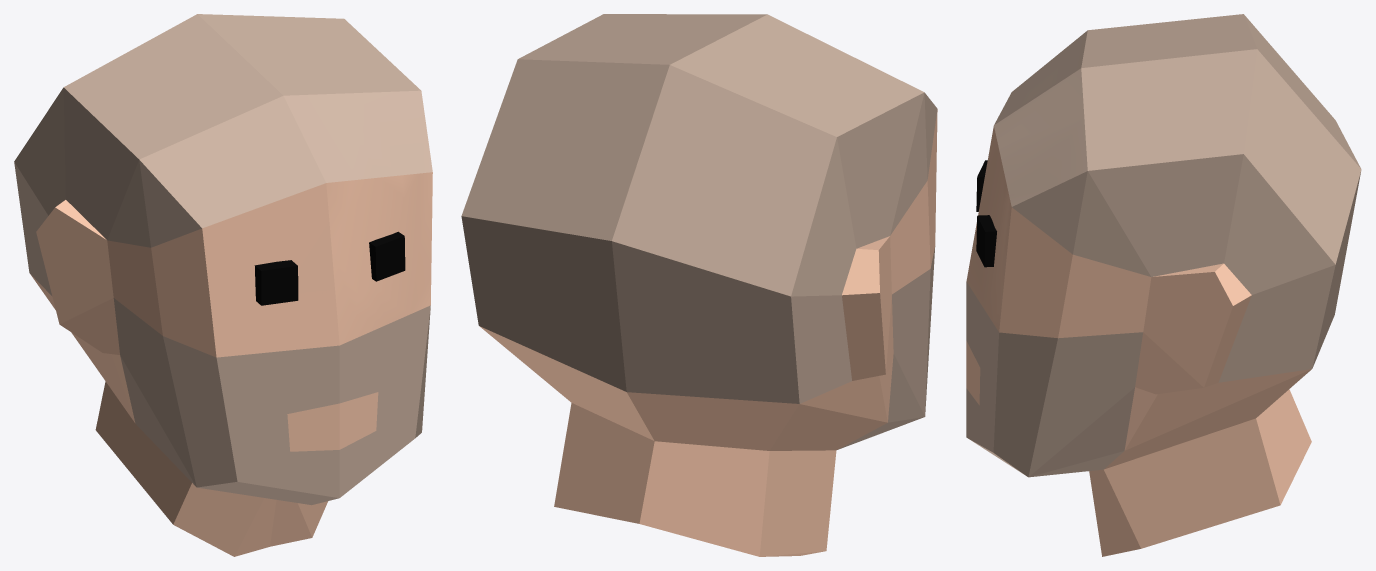
Rendered from Chr_Head_Male_16_Static.fbx.
3 views of the same model, side by side, from view 1: azimuth 30°, elevation 25°; view 2: azimuth 150°, elevation 25°; view 3: azimuth 270°, elevation 25° (orthographic). The views are drawn at different scales.
Parts seen in each view (by area): view 1: Chr_Head_Male_16_Static; view 2: Chr_Head_Male_16_Static; view 3: Chr_Head_Male_16_Static.
Boxes of the visible parts, x1,y1,x2,y2 form: Chr_Head_Male_16_Static: [14, 14, 432, 556]; Chr_Head_Male_16_Static: [461, 14, 937, 556]; Chr_Head_Male_16_Static: [966, 14, 1361, 556].
Bounding box in the file's own units: 0.2661 × 0.3523 × 0.2574.
